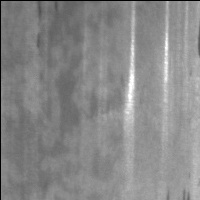scratches: (120, 4, 140, 149), (159, 3, 173, 113)
